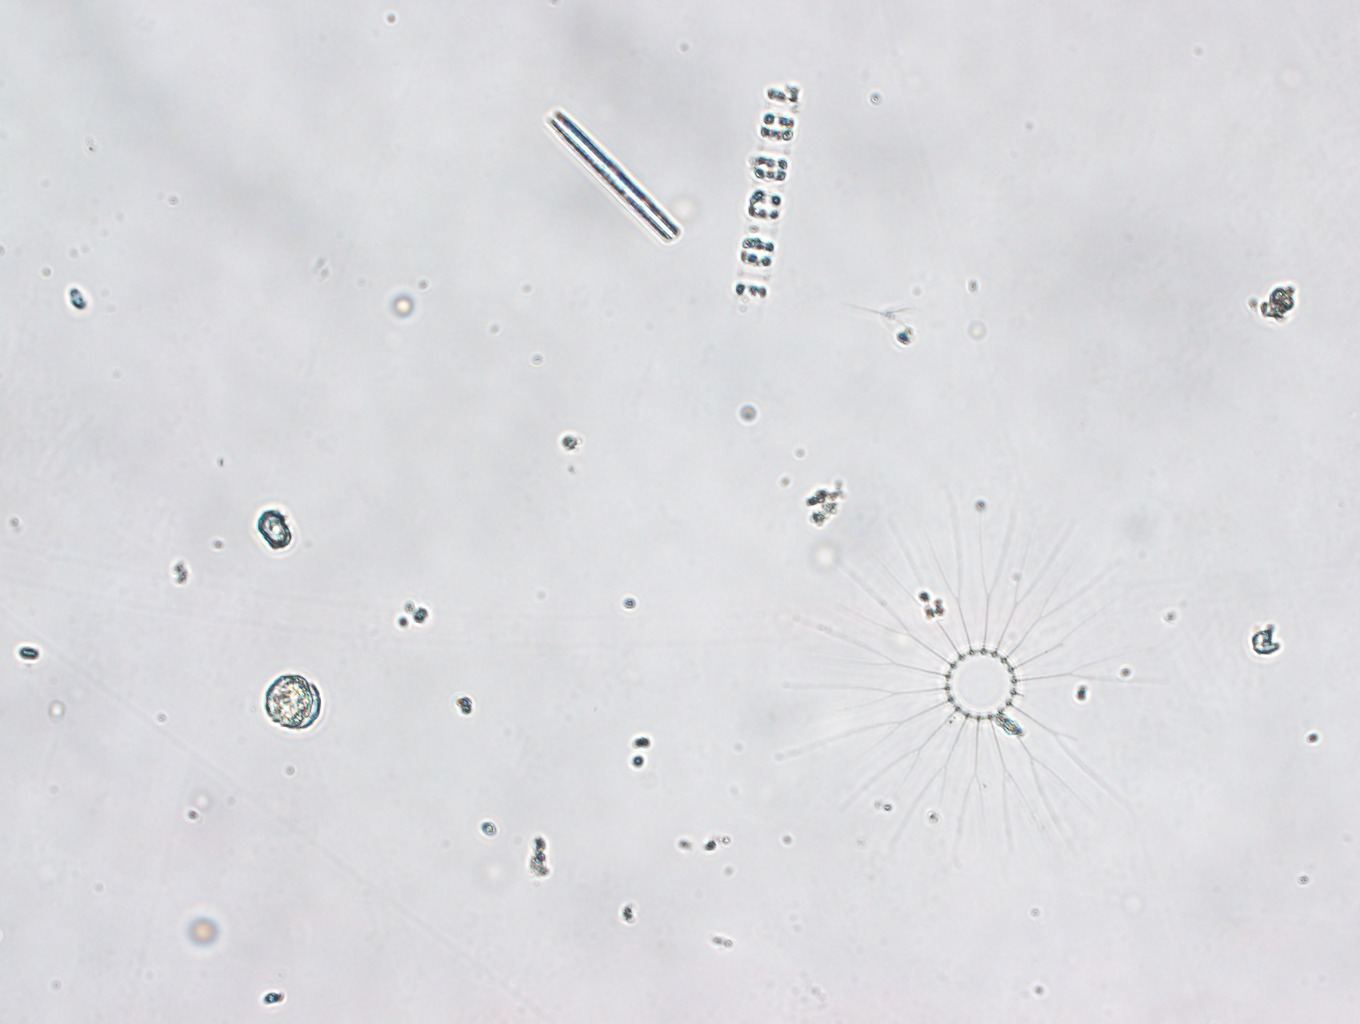bacteriastrum: (790, 489, 1162, 853)
skeletonema: (732, 79, 801, 305)
